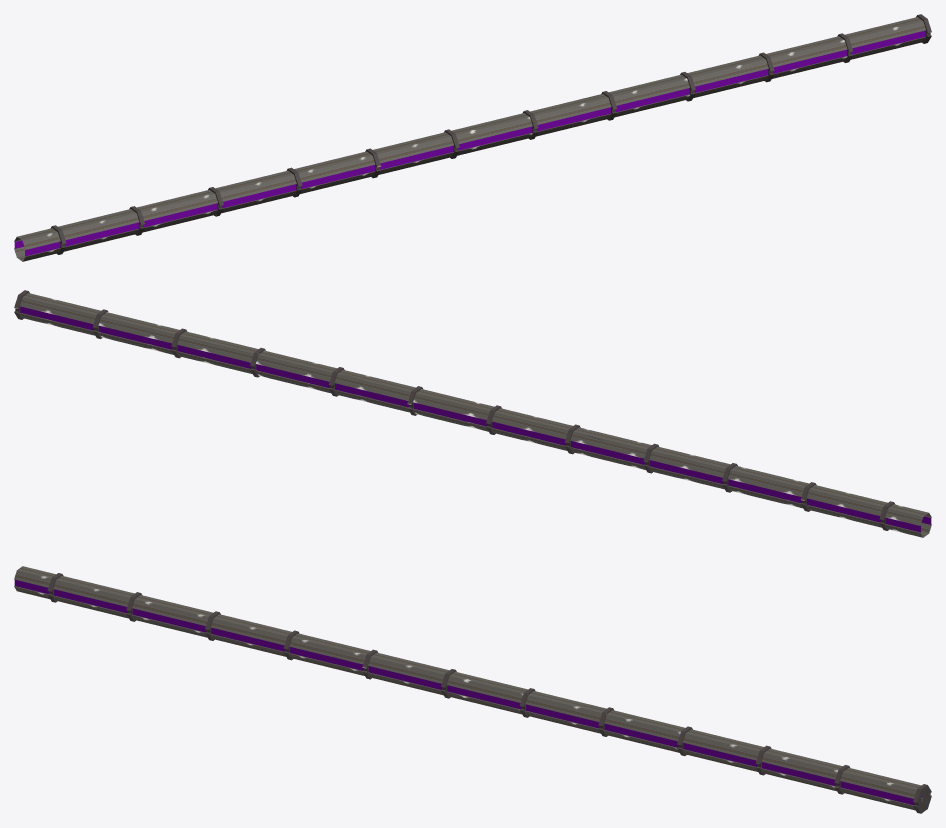
File: KF_Train_Rail.fbx
The picture shows the model from 3 angles, top to bottom: view 1: azimuth 30°, elevation 25°; view 2: azimuth 150°, elevation 25°; view 3: azimuth 330°, elevation 25°; orthographic projection.
Parts seen in each view (by area): view 1: KF_Train_Rail; view 2: KF_Train_Rail; view 3: KF_Train_Rail.
Boxes of the visible parts, x1=… form: KF_Train_Rail: x1=14, y1=14, x2=931, y2=261; KF_Train_Rail: x1=14, y1=290, x2=931, y2=537; KF_Train_Rail: x1=14, y1=566, x2=931, y2=813.
Size of the model in its own units: 12218 by 310 by 351.
Materials: 3 (2 with a texture image).
